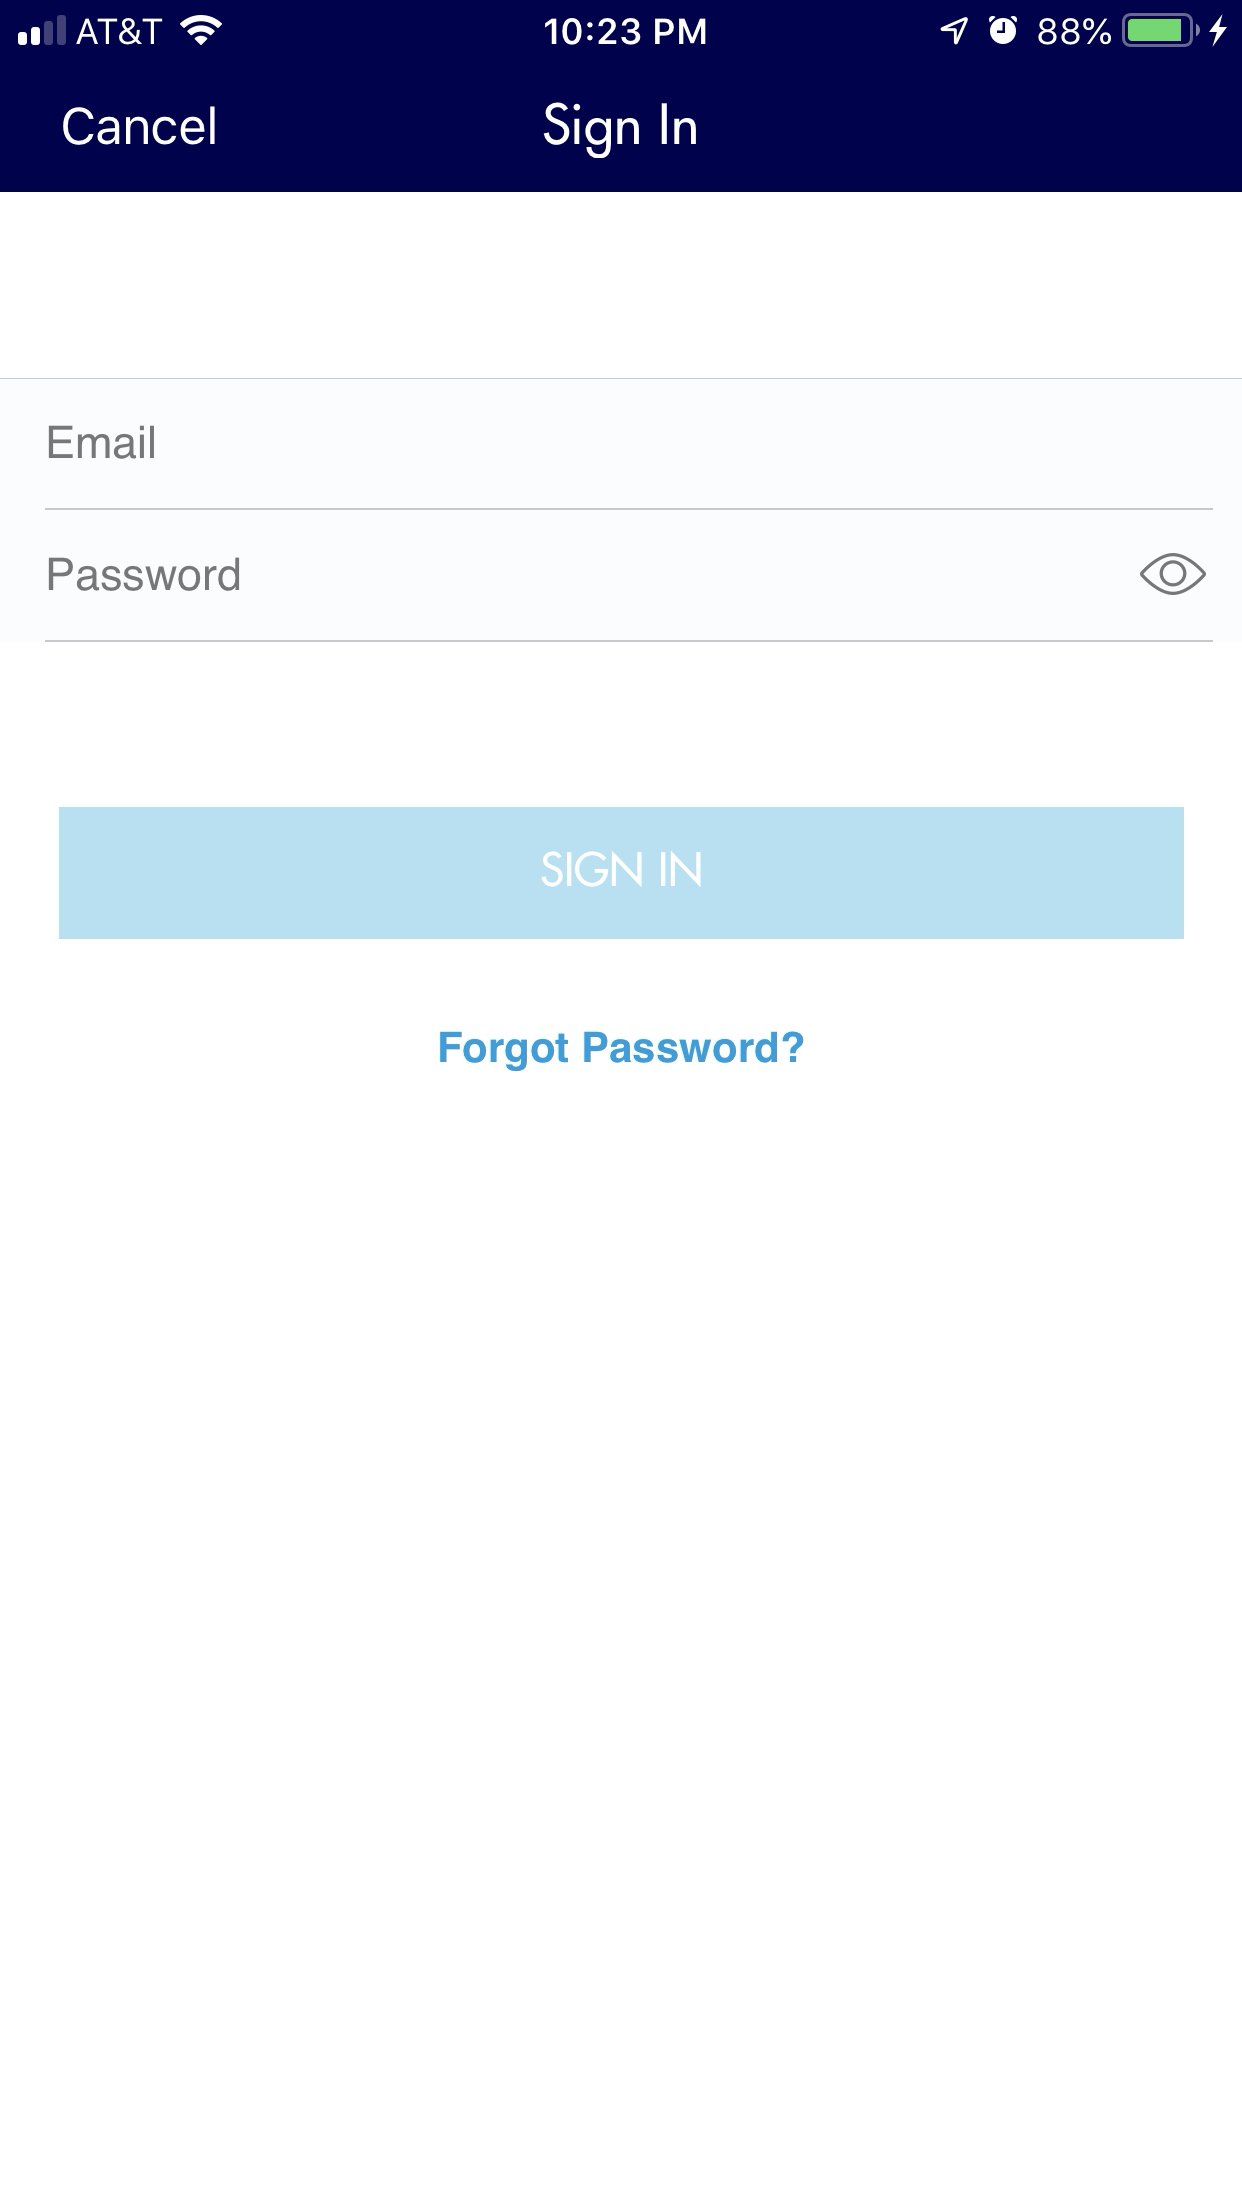EditText: (44, 554, 1215, 645), (45, 425, 1215, 513)
Icon: (1139, 554, 1207, 597)
Text: (440, 1031, 804, 1072), (544, 102, 698, 161), (49, 557, 241, 591), (64, 108, 217, 147), (49, 425, 155, 459)
TextButton: (61, 807, 1184, 940)
UpperTaskBar: (2, 2, 1242, 49)
